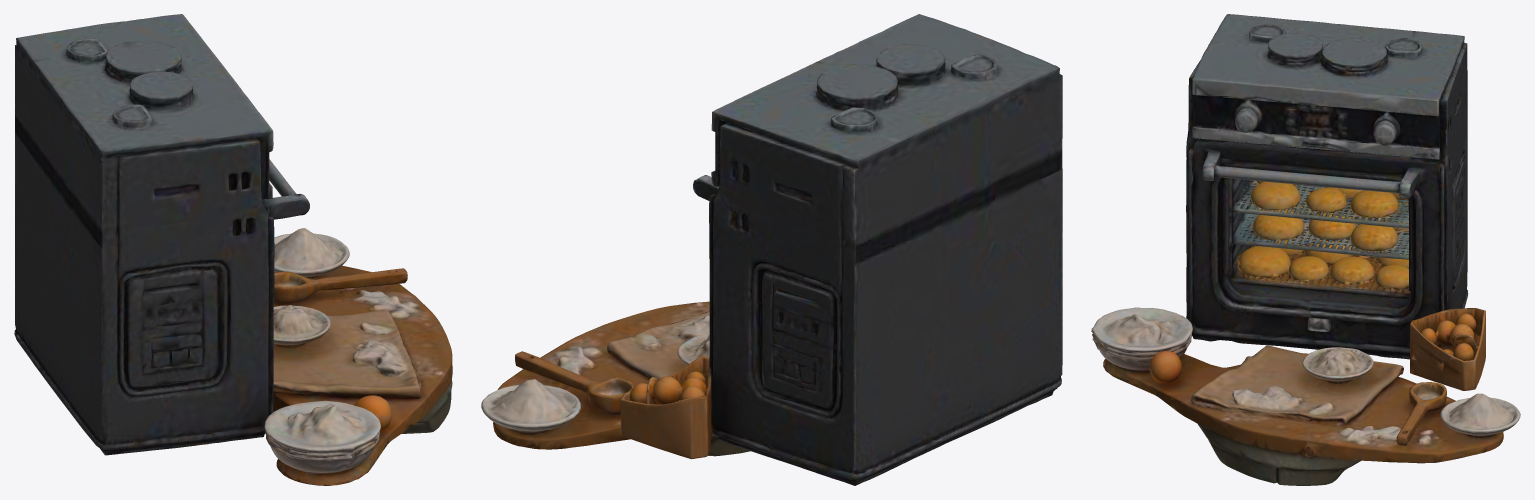
Rendered from horno.glb.
3 views of the same model, side by side, from view 1: azimuth 30°, elevation 25°; view 2: azimuth 150°, elevation 25°; view 3: azimuth 270°, elevation 25° (orthographic). The views are drawn at different scales.
Visible parts, largest first — view 1: tripo_node_764409fd-cbce-4d36-8c94-dd83bc39e6bc; view 2: tripo_node_764409fd-cbce-4d36-8c94-dd83bc39e6bc; view 3: tripo_node_764409fd-cbce-4d36-8c94-dd83bc39e6bc.
Boxes of the visible parts, bbox=[...] form: tripo_node_764409fd-cbce-4d36-8c94-dd83bc39e6bc: bbox=[14, 14, 452, 485]; tripo_node_764409fd-cbce-4d36-8c94-dd83bc39e6bc: bbox=[481, 14, 1062, 485]; tripo_node_764409fd-cbce-4d36-8c94-dd83bc39e6bc: bbox=[1091, 14, 1520, 485].
Size of the model in its own units: 0.9297 by 0.8127 by 0.9794.
1 material, 1 textured.
